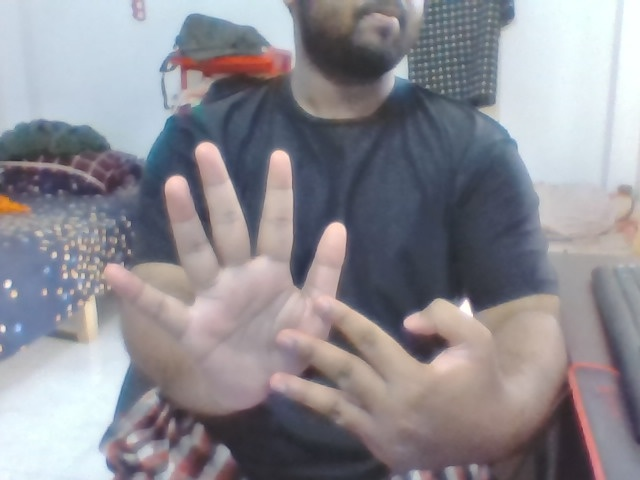M: (93, 138, 505, 480)
